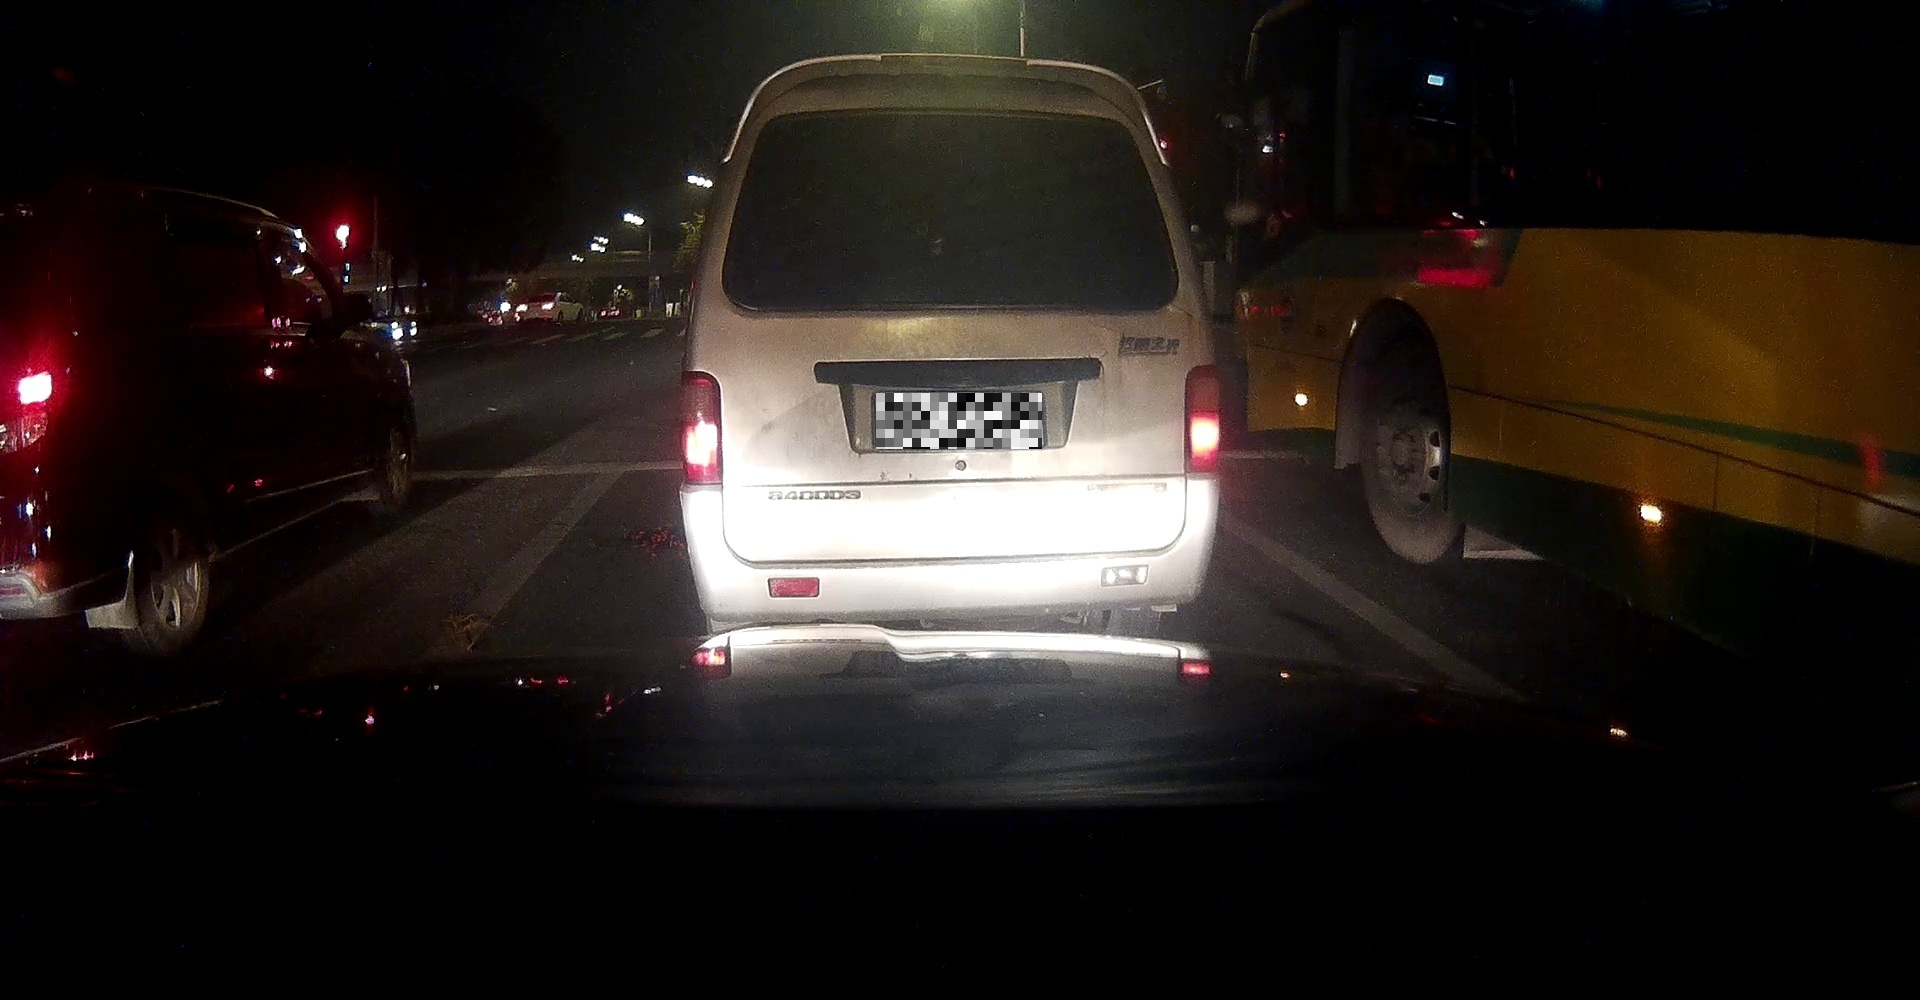L_light: (676, 371, 723, 489)
R_light: (1183, 364, 1223, 480)
T_light: (928, 114, 974, 132)
night-no: (676, 51, 1224, 643)
plate_1: (876, 393, 1043, 449)
